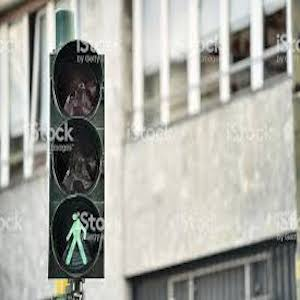green: (61, 206, 88, 270)
